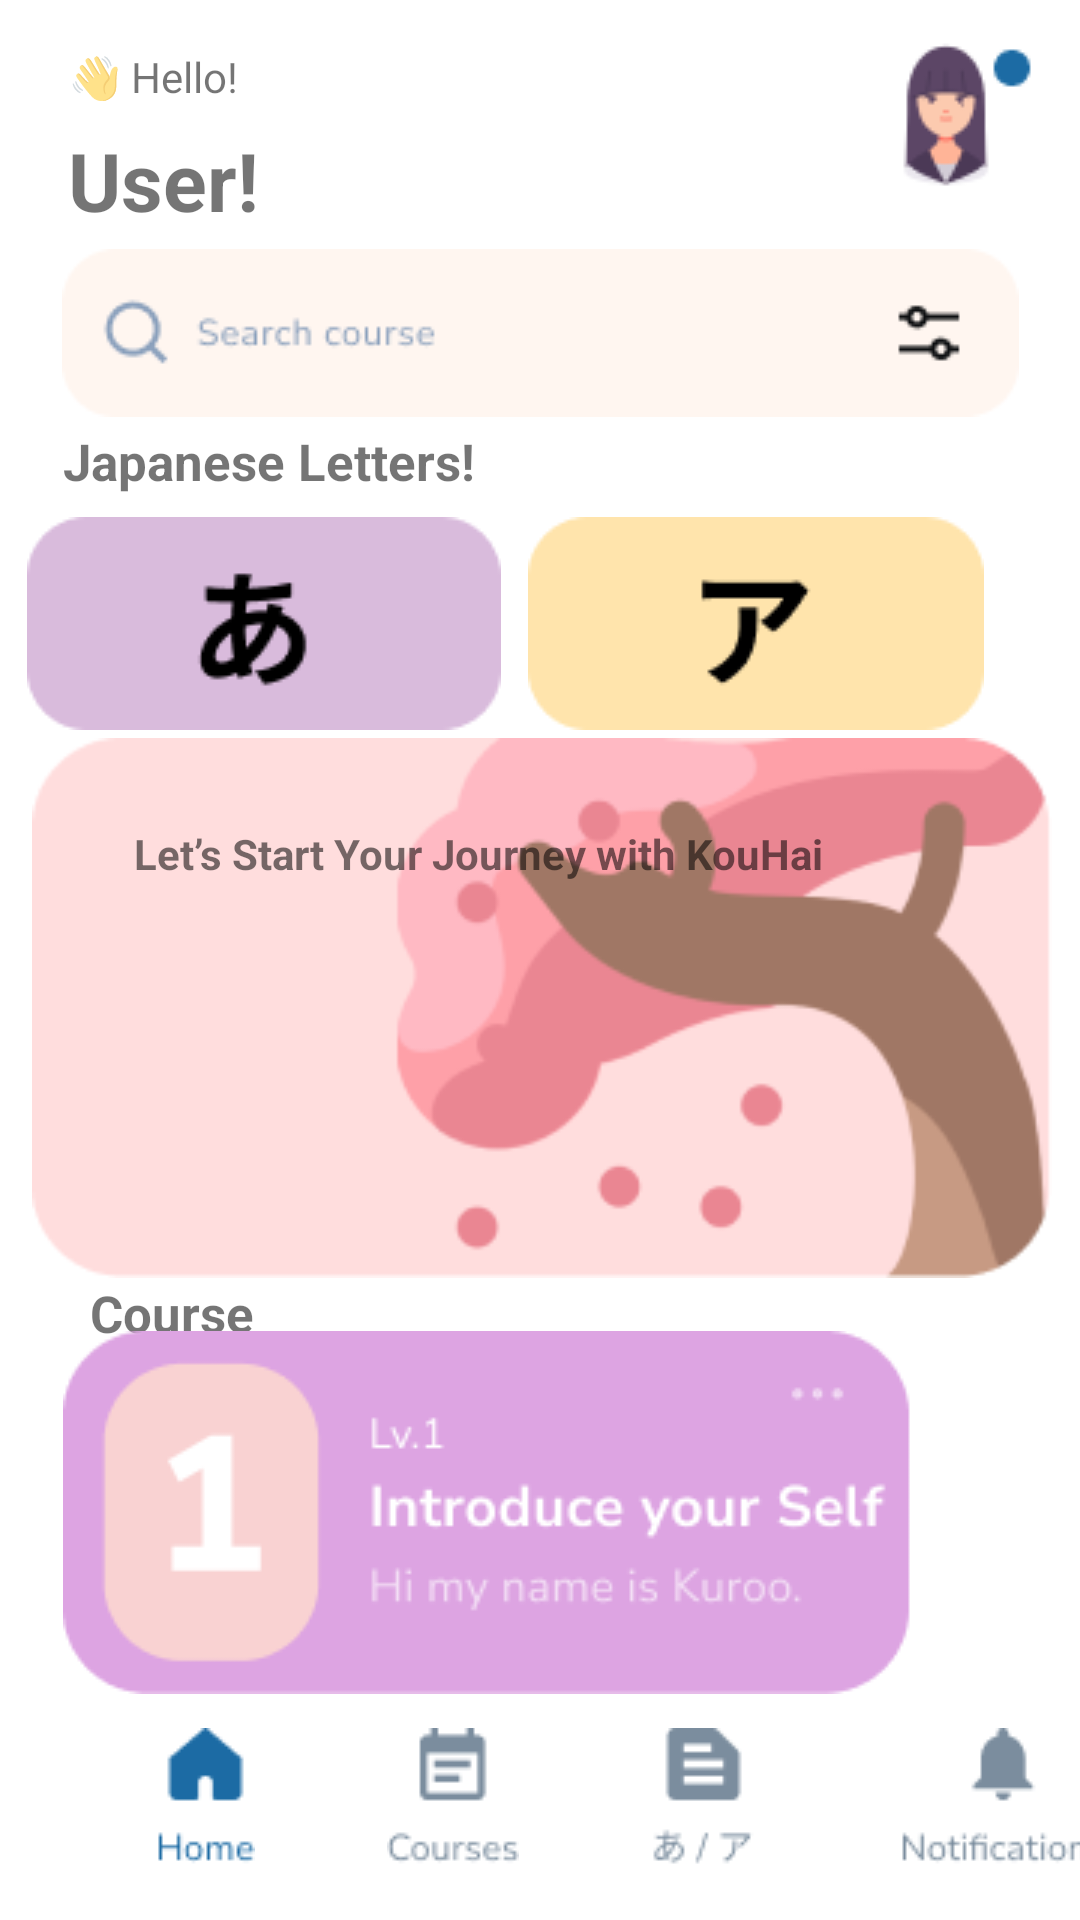

Where icons sit on this 1080px x 1920px app screen, as {"x1": x1, "y1": y1, "x2": x2, "y2": y2}:
file: {"x1": 653, "y1": 1728, "x2": 751, "y2": 1863}
profil: {"x1": 904, "y1": 46, "x2": 1031, "y2": 186}
